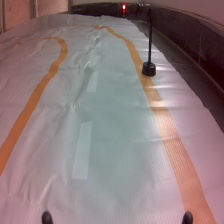red: (118, 1, 158, 77)
